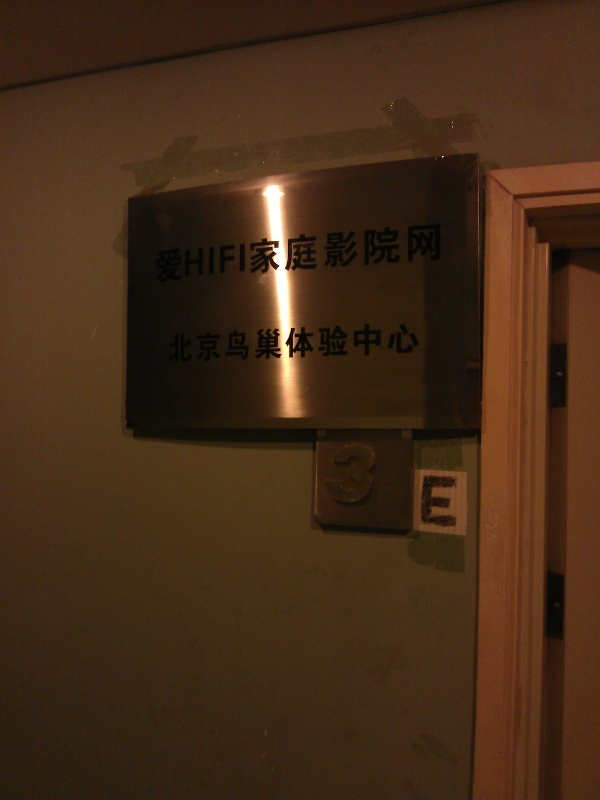text: (161, 219, 176, 286), (177, 219, 192, 286), (193, 219, 208, 286), (209, 219, 224, 286), (225, 219, 240, 286), (241, 219, 256, 286), (257, 219, 272, 286), (273, 219, 288, 286), (289, 219, 304, 286), (305, 219, 320, 286), (321, 219, 336, 286), (337, 219, 352, 286), (353, 219, 368, 286), (369, 219, 384, 286), (385, 219, 400, 286), (401, 219, 416, 286), (417, 219, 432, 286), (337, 440, 352, 506), (353, 440, 368, 506), (433, 472, 448, 531), (369, 440, 382, 506), (433, 219, 444, 286), (420, 472, 432, 531), (449, 472, 461, 531), (177, 318, 192, 365), (193, 318, 208, 365), (209, 318, 224, 365), (225, 318, 240, 365), (241, 318, 256, 365), (257, 318, 272, 365), (273, 318, 288, 365), (289, 318, 304, 365), (305, 318, 320, 365), (321, 318, 336, 365), (337, 318, 352, 365), (353, 318, 368, 365), (369, 318, 384, 365), (385, 318, 400, 365), (401, 318, 416, 365), (327, 440, 336, 506), (152, 219, 160, 286), (166, 318, 176, 365), (417, 318, 422, 365)
